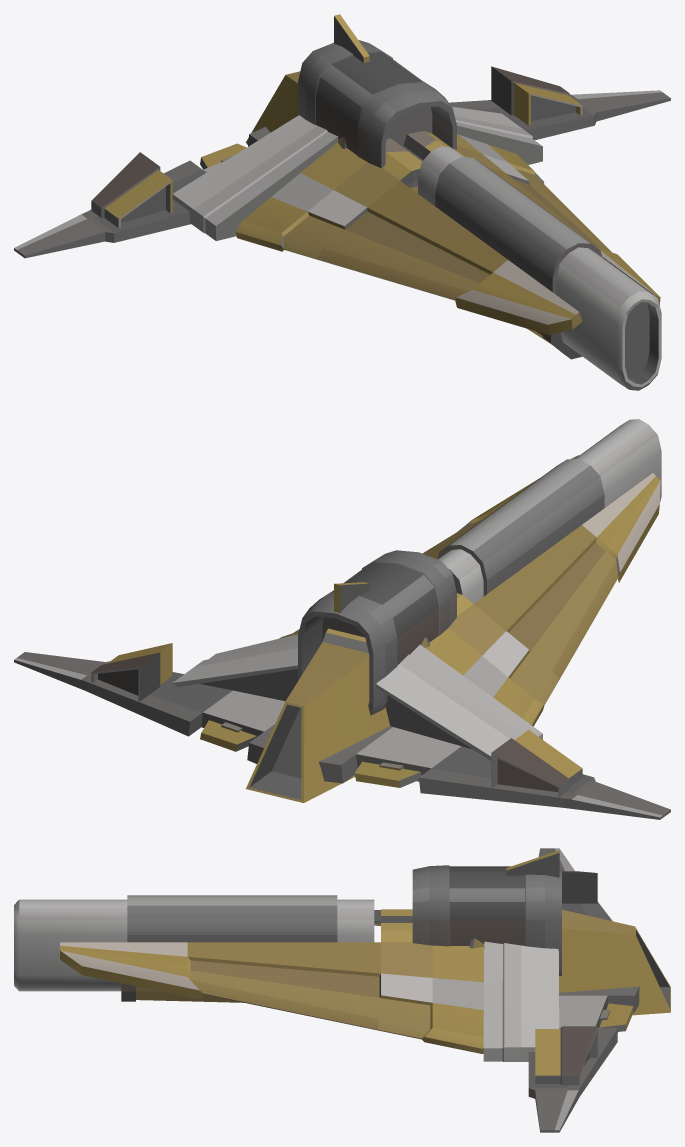
The model's file is omen.glb.
The picture shows the model from 3 angles, top to bottom: view 1: azimuth 30°, elevation 25°; view 2: azimuth 150°, elevation 25°; view 3: azimuth 270°, elevation 25°; orthographic projection. The views are drawn at different scales.
Parts seen in each view (by area): view 1: Omen; view 2: Omen; view 3: Omen.
Boxes of the visible parts, box(x1,y1,x2,y2) form: Omen: box(14, 14, 670, 390); Omen: box(14, 419, 670, 819); Omen: box(14, 848, 670, 1132).
Size of the model in its own units: 12.78 by 3.14 by 12.58.
